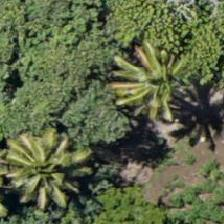coconut_tree: (105, 40, 195, 130), (0, 112, 76, 202)
